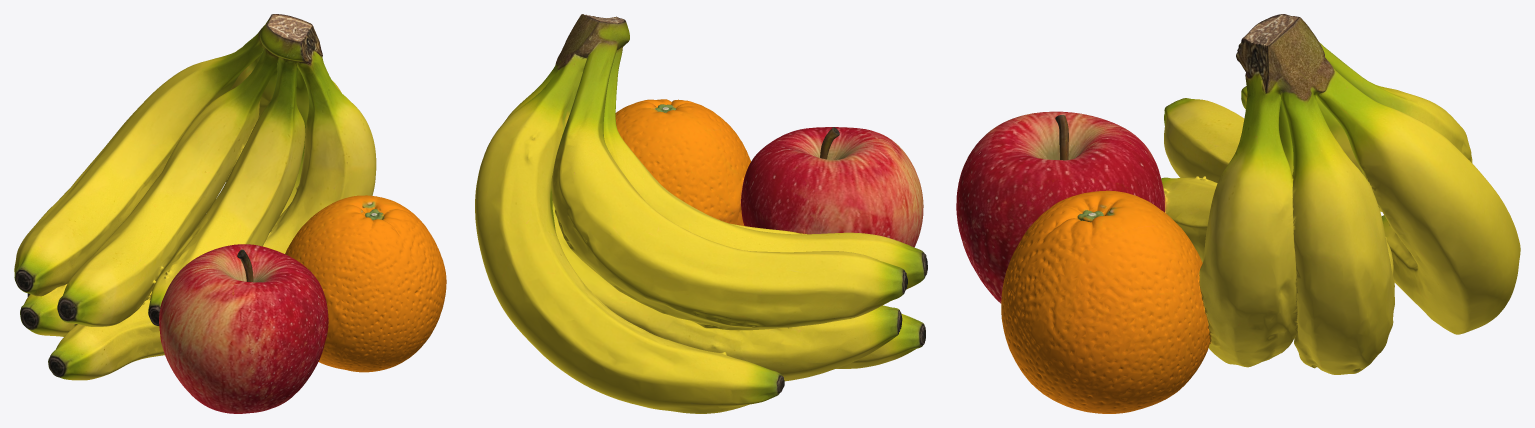
The model's file is fruits.glb.
3 views of the same model, side by side, from view 1: azimuth 30°, elevation 25°; view 2: azimuth 150°, elevation 25°; view 3: azimuth 270°, elevation 25° (orthographic). The views are drawn at different scales.
Size of the model in its own units: 0.1556 by 0.12 by 0.1672.
1 material, 1 textured.
